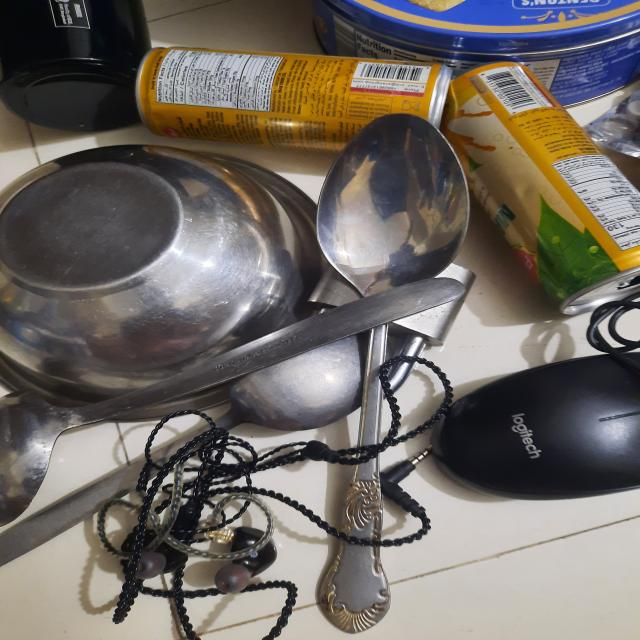Cable: (42, 402, 420, 640)
E-waste: (452, 349, 640, 512)
Metal: (0, 146, 482, 415)
can: (30, 0, 493, 144), (488, 0, 640, 291)
